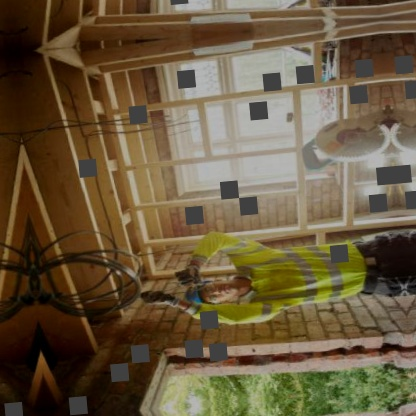blue: (179, 273, 210, 313)
vest: (231, 236, 365, 317)
